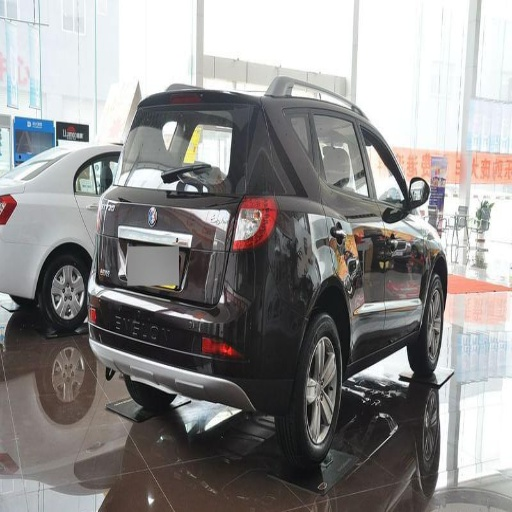back_bumper: (90, 249, 306, 412)
back_right_door: (281, 106, 385, 346)
tailgate: (121, 174, 237, 305)
trunk: (97, 185, 195, 302)
